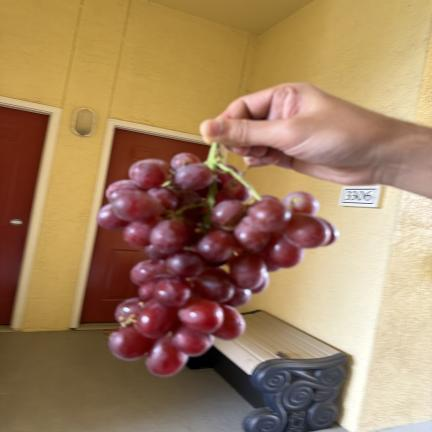grape_cluster: (97, 145, 339, 376)
